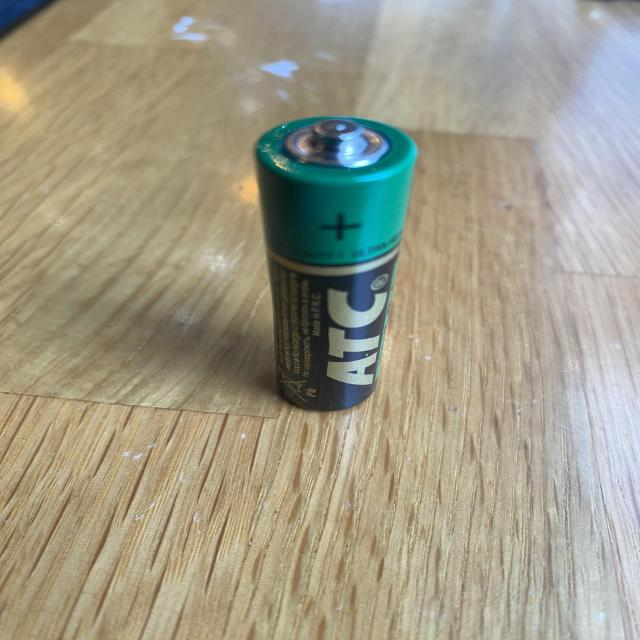AA: (253, 115, 419, 412)
